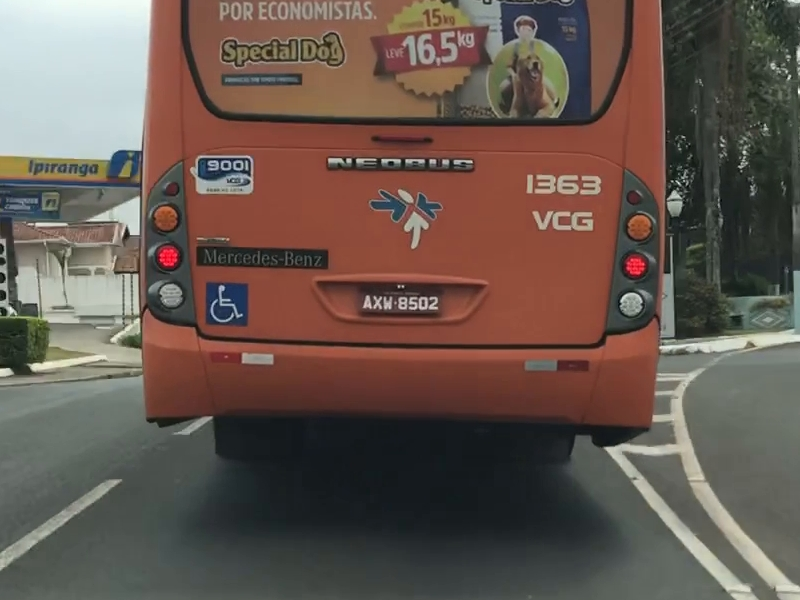placa: (358, 286, 443, 314)
